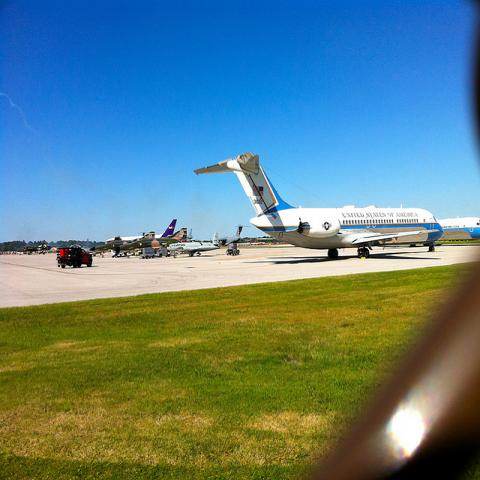car: (59, 247, 92, 269)
truck: (58, 246, 93, 269), (226, 243, 239, 256)
